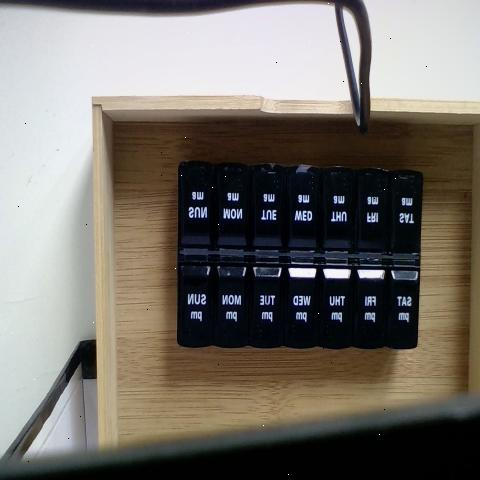FRI-am: (358, 170, 388, 249)
FRI-pm: (358, 262, 387, 346)
MON-am: (218, 167, 250, 248)
MON-pm: (219, 267, 251, 346)
SAT-am: (389, 168, 421, 250)
SAT-pm: (388, 264, 418, 349)
SUN-am: (180, 168, 219, 248)
SUN-pm: (180, 264, 214, 344)
THU-am: (322, 169, 352, 252)
THU-pm: (324, 260, 357, 348)
TUE-am: (254, 171, 286, 248)
TUE-pm: (253, 261, 288, 347)
WED-am: (287, 168, 318, 251)
WED-pm: (288, 258, 319, 347)
